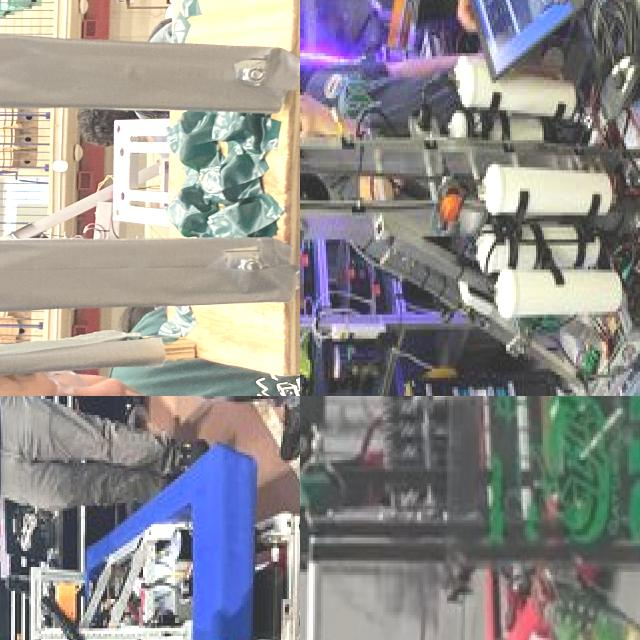FRC-Robots: (300, 0, 640, 396), (300, 396, 640, 640), (0, 413, 291, 640)
